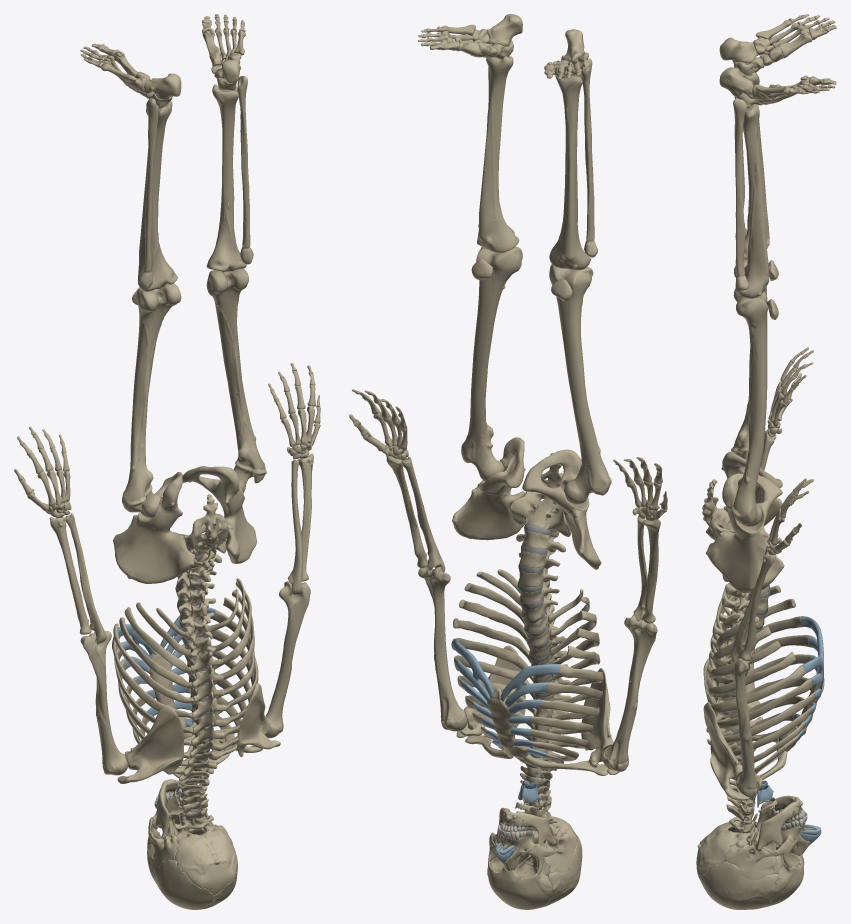
File: skeletal.glb
The picture shows the model from 3 angles, left to right: view 1: azimuth 30°, elevation 25°; view 2: azimuth 150°, elevation 25°; view 3: azimuth 270°, elevation 25°; orthographic projection. The views are drawn at different scales.
Visible parts, largest first — view 1: FJ3365, FJ3152, FJ3259, FJ3309, FJ3282, FJ3288, FJ3384, FJ3387, FJ3262, FJ3368, FJ3380, FJ3393 (+16 smaller); view 2: FJ3365, FJ3259, FJ3288, FJ3282, FJ3387, FJ3152, FJ3262, FJ3368, FJ3200, FJ3393, FJ3384, FJ3366 (+19 smaller); view 3: FJ3259, FJ3288, FJ3282, FJ3274, FJ3262, FJ3260, FJ3279, FJ3309, FJ3289, FJ3281, FJ3152, FJ3200 (+25 smaller).
Part boxes in pixels (box(x1,y1,x2,y2)): FJ3365: box(122, 283, 181, 518); FJ3152: box(113, 472, 194, 583); FJ3259: box(206, 268, 266, 492); FJ3309: box(175, 824, 236, 895); FJ3282: box(206, 84, 246, 272); FJ3288: box(182, 466, 256, 563); FJ3384: box(117, 705, 184, 783); FJ3387: box(138, 101, 177, 291); FJ3262: box(266, 581, 310, 738); FJ3368: box(80, 631, 128, 775); FJ3380: box(150, 855, 215, 909); FJ3393: box(180, 494, 228, 555); FJ3365: box(549, 264, 611, 504); FJ3259: box(461, 246, 522, 481); FJ3288: box(452, 437, 536, 540); FJ3282: box(477, 56, 519, 252); FJ3387: box(549, 71, 591, 270); FJ3152: box(522, 449, 601, 569); FJ3262: box(418, 567, 467, 731); FJ3368: box(602, 615, 657, 771); FJ3200: box(487, 857, 552, 909); FJ3393: box(509, 452, 570, 536); FJ3384: box(581, 668, 619, 774); FJ3366: box(581, 58, 597, 257); FJ3259: box(731, 289, 768, 526); FJ3288: box(706, 473, 784, 593); FJ3282: box(739, 104, 769, 298); FJ3274: box(698, 861, 778, 909); FJ3262: box(734, 652, 761, 797); FJ3260: box(733, 98, 749, 292); FJ3279: box(703, 702, 762, 800); FJ3309: box(696, 821, 758, 876); FJ3289: box(756, 795, 802, 851); FJ3281: box(725, 831, 779, 879); FJ3152: box(706, 451, 782, 540); FJ3200: box(767, 852, 804, 906).
Bounding box in the file's own units: 648 × 1707 × 254.
